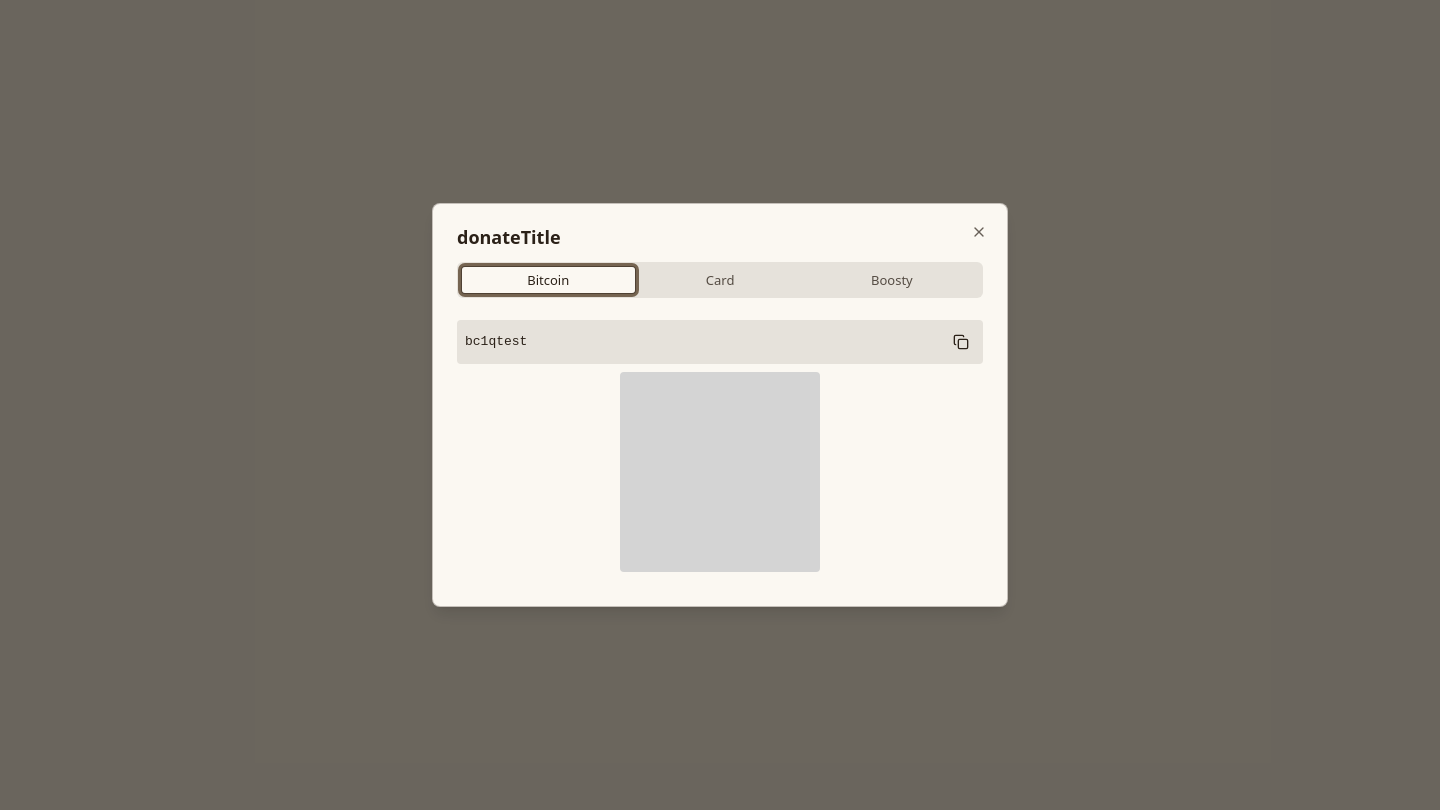
Test: shows the method whose tab was chosen
The image size is (1440, 810).
Click the tab "Card": (720, 280) top-left (640, 266), bottom-right (801, 294)
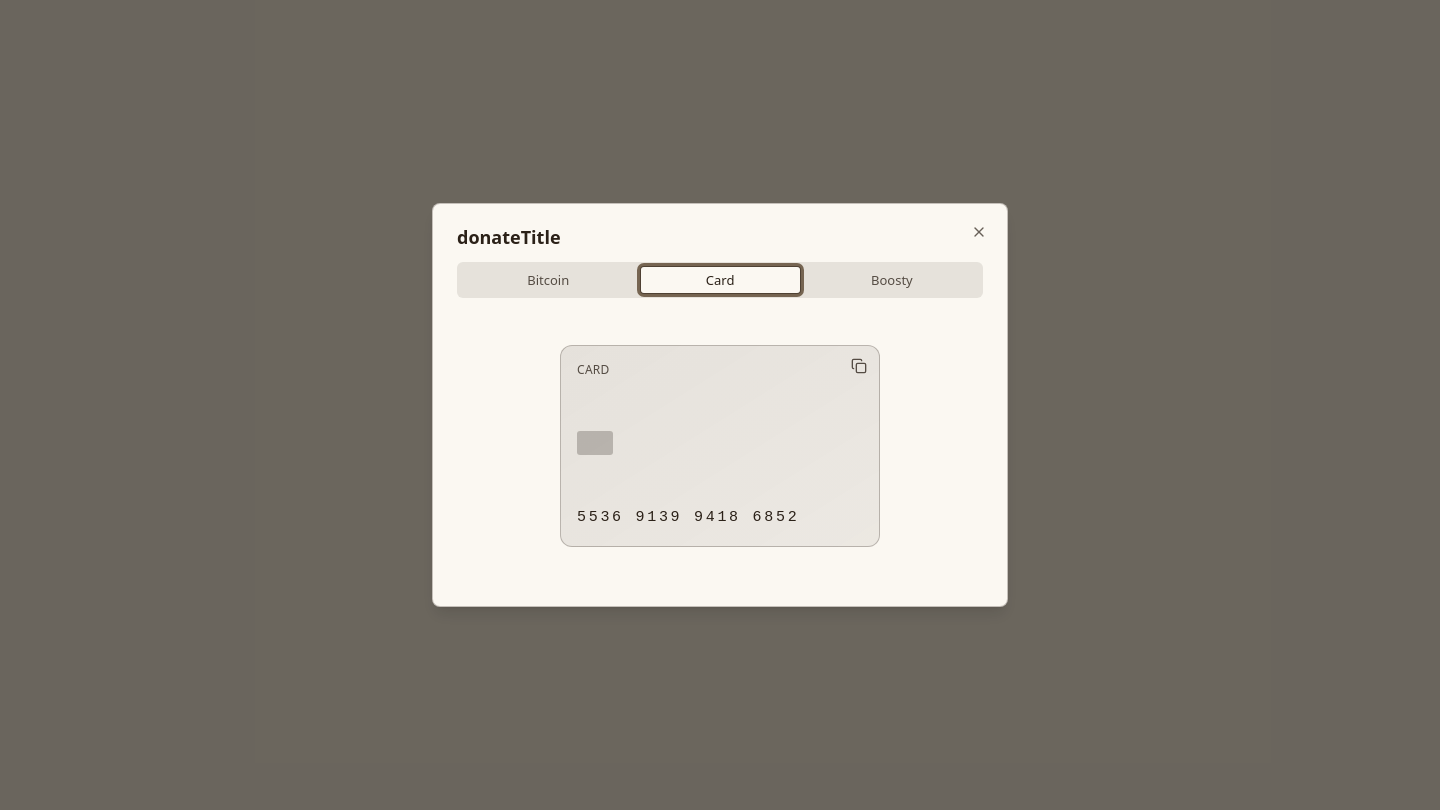
Check: the text "5536 9139 9418 6852" is shown, box top-left (577, 507), bottom-right (799, 530)
